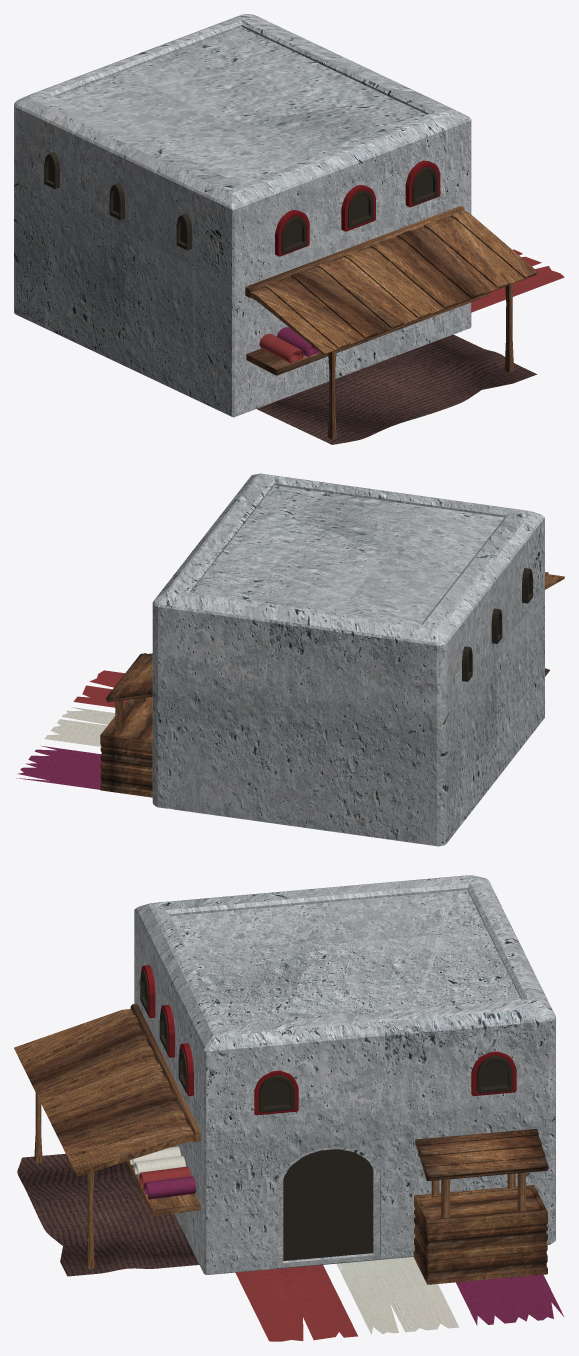
File: Casinha3.fbx
3 views of the same model, one above another, from view 1: azimuth 30°, elevation 25°; view 2: azimuth 150°, elevation 25°; view 3: azimuth 270°, elevation 25° (orthographic). The views are drawn at different scales.
Parts seen in each view (by area): view 1: Cube, Cube.002, Plane.003, Cube.022, Cube.019, Cube.003, Plane.001, Cylinder.010, Cube.004, Cube.005, Cube.013; view 2: Cube, Cube.001, Plane.002, Plane, Cube.010, Plane.001; view 3: Cube, Cube.002, Plane.003, Cube.001, Plane.001, Plane, Cube.010, Plane.002, Cube.021, Cube.022, Cube.019, Cube.003 (+5 smaller).
Boxes of the visible parts, x1,y1,x2,y2 form: Cube: (14,14,471,417); Cube.002: (250,210,537,354); Plane.003: (256,334,537,444); Cube.022: (275,160,440,256); Cube.019: (245,206,464,297); Cube.003: (246,292,489,375); Plane.001: (471,249,564,312); Cylinder.010: (259,334,303,363); Cube.004: (504,283,513,372); Cube.005: (327,350,336,439); Cube.013: (176,213,192,250); Cube: (152,473,544,846); Cube.001: (100,697,152,797); Plane.002: (16,745,101,789); Plane: (44,707,115,746); Cube.010: (106,653,152,702); Plane.001: (73,670,127,707); Cube: (134,875,555,1274); Cube.002: (14,1009,200,1176); Plane.003: (17,1153,199,1276); Cube.001: (413,1185,547,1284); Plane.001: (235,1265,357,1341); Plane: (336,1257,459,1334); Cube.010: (415,1129,548,1180); Plane.002: (456,1274,564,1325); Cube.021: (254,1051,516,1115); Cube.022: (140,965,193,1095); Cube.019: (130,1003,200,1141); Cube.003: (126,1160,200,1216).
Size of the model in its own units: 904 by 419 by 885.
Materials: 8 (6 with a texture image).
